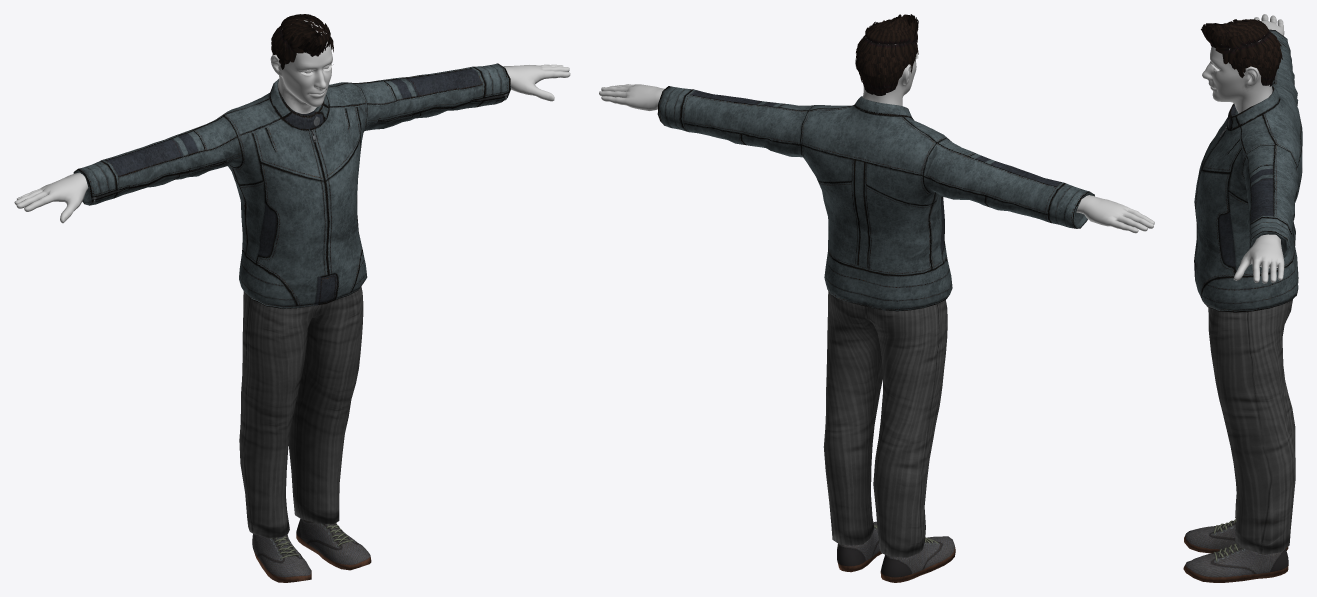
The picture shows the model from 3 angles, left to right: view 1: azimuth 30°, elevation 25°; view 2: azimuth 150°, elevation 25°; view 3: azimuth 270°, elevation 25°; orthographic projection.
Visible parts, largest first — view 1: Tops, Bottoms, Body, Shoes, Hair; view 2: Tops, Bottoms, Body, Hair, Shoes; view 3: Tops, Bottoms, Body, Shoes, Hair.
Boxes of the visible parts, box(x1,y1,x2,y2) form: Tops: box(73, 63, 510, 308); Bottoms: box(239, 286, 363, 538); Body: box(14, 20, 570, 223); Shoes: box(252, 518, 371, 582); Hair: box(271, 14, 333, 69); Tops: box(657, 86, 1094, 311); Bottoms: box(823, 291, 947, 557); Body: box(599, 37, 1154, 233); Hair: box(855, 14, 918, 95); Shoes: box(837, 521, 955, 582); Tops: box(1194, 29, 1302, 312); Bottoms: box(1208, 299, 1295, 554); Body: box(1202, 14, 1284, 283); Shoes: box(1183, 519, 1288, 582); Hair: box(1201, 19, 1282, 86).
Size of the model in its own units: 194 by 181 by 36.25.
